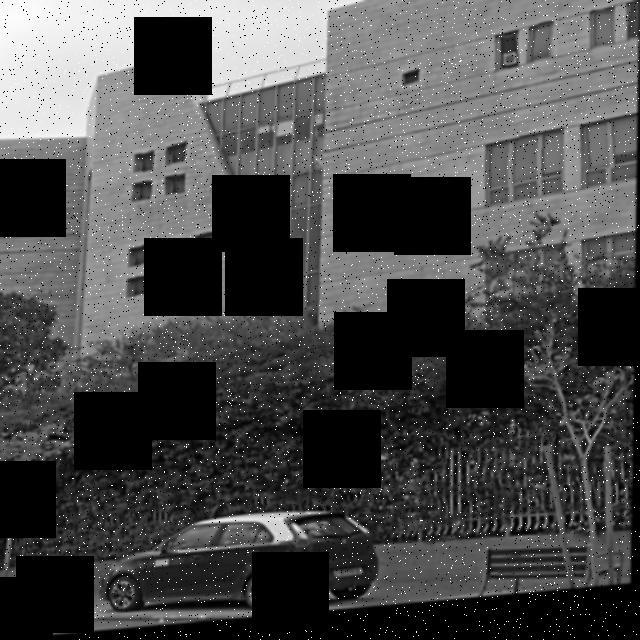Window: (485, 136, 565, 198), (488, 276, 566, 332), (581, 121, 638, 182), (582, 262, 636, 316), (527, 31, 557, 75), (590, 20, 618, 62), (498, 42, 520, 80), (160, 238, 186, 266), (196, 235, 222, 261), (157, 271, 183, 297), (166, 143, 190, 169), (128, 248, 154, 272), (192, 266, 218, 290), (131, 182, 154, 208), (163, 175, 186, 199), (128, 278, 149, 300), (134, 154, 154, 176), (629, 10, 639, 52), (403, 76, 423, 95), (402, 189, 419, 208), (399, 308, 416, 326)
